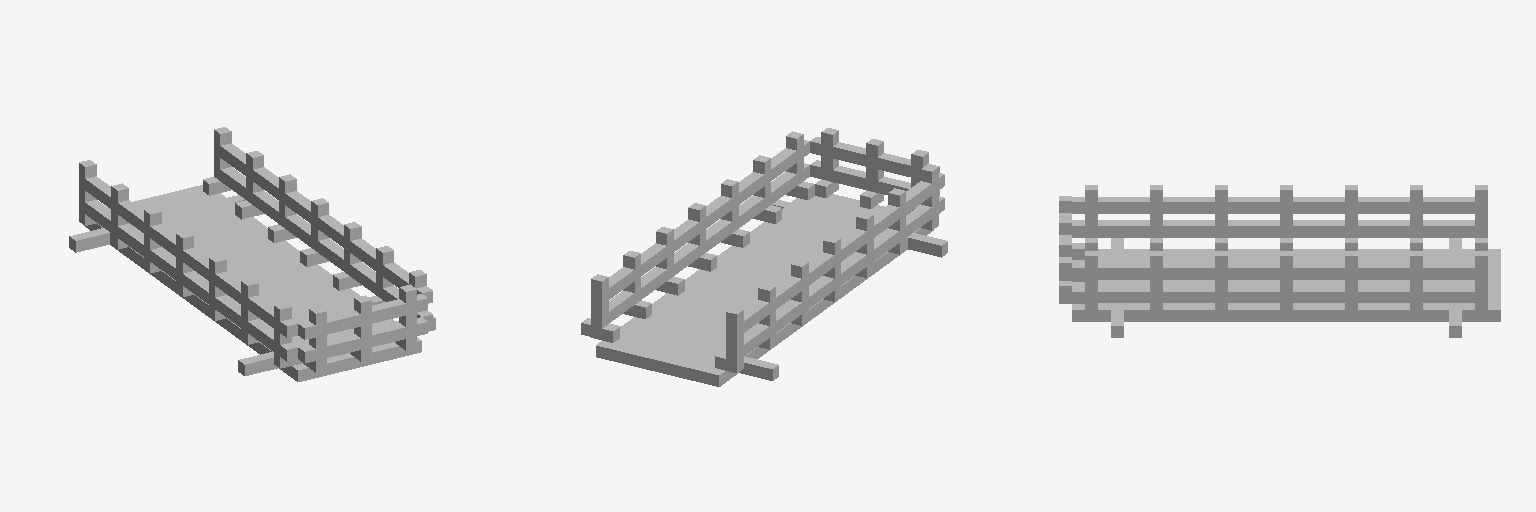
The model's file is Cart.obj.
The picture shows the model from 3 angles: view 1: azimuth 30°, elevation 25°; view 2: azimuth 150°, elevation 25°; view 3: azimuth 270°, elevation 25°; orthographic projection.
Parts seen in each view (by area): view 1: object 1; view 2: object 1; view 3: object 1.
Part boxes in pixels (x1,y1,x2,y2): object 1: (69,127,435,381); object 1: (581,128,947,386); object 1: (1059,185,1500,337).
Size of the model in its own units: 1.7 by 0.6 by 3.4.